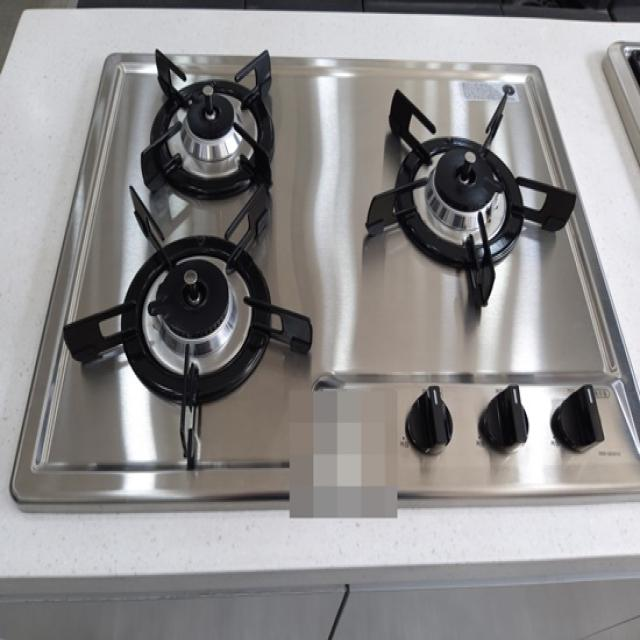knob_ON: (56, 40, 606, 452)
